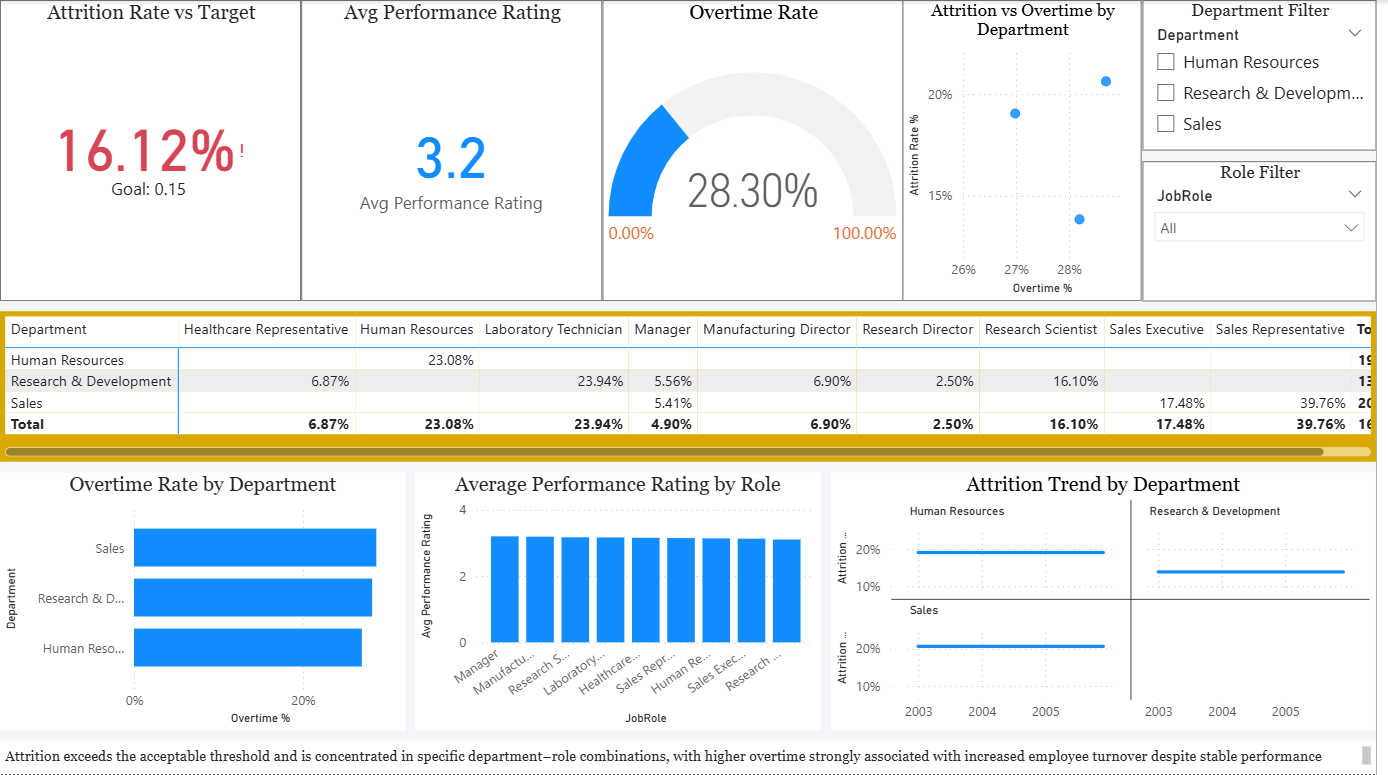

The page's visual inventory and layout, read from the dashboard file:
{"tool":"powerbi","page":{"name":"Operations Dashboard","canvas":[1280,720],"ordinal":1},"visuals":[{"type":"kpi","title":"Attrition Rate vs Target","fields":{"Indicator":["Operations_Clean.Attrition Rate %"],"TrendLine":["Date_Dim.Month_Year"],"Goal":["Operations_Clean.Attrition Target"]},"box":[0,0,280,280],"z":0},{"type":"card","title":"Avg Performance Rating","fields":{"Values":["Operations_Clean.Avg Performance Rating"]},"box":[280,0,280,280],"z":1000},{"type":"gauge","title":"Overtime Rate","fields":{"Y":["Operations_Clean.Overtime %"]},"box":[560,0,280,280],"z":2000},{"type":"clusteredColumnChart","title":"Average Performance Rating by Role","fields":{"Category":["Operations_Clean.JobRole"],"Y":["Operations_Clean.Avg Performance Rating"]},"box":[386.2,440,377.5,240],"z":3000},{"type":"barChart","title":"Overtime Rate by Department","fields":{"Y":["Operations_Clean.Overtime %"],"Category":["Operations_Clean.Department"]},"box":[0,440,377.5,240],"z":4000},{"type":"slicer","title":"Department Filter","fields":{"Values":["Operations_Clean.Department"]},"box":[1062.5,0,217.5,140],"z":5000},{"type":"slicer","title":"Role Filter","fields":{"Values":["Operations_Clean.JobRole"]},"box":[1062.5,150,217.5,130],"z":6000},{"type":"pivotTable","fields":{"Rows":["Operations_Clean.Department"],"Columns":["Operations_Clean.JobRole"],"Values":["Operations_Clean.Attrition Rate %"]},"box":[0,290,1280,140],"z":7000},{"type":"lineChart","title":"Attrition Trend by Department","fields":{"Category":["Date_Dim.Month_Year"],"Y":["Operations_Clean.Attrition Rate %"],"Rows":["Operations_Clean.Department"]},"box":[773.8,440,506.2,240],"z":8000},{"type":"scatterChart","title":"Attrition vs Overtime by Department","fields":{"Y":["Operations_Clean.Attrition Rate %"],"X":["Operations_Clean.Overtime %"],"Category":["Operations_Clean.Department"]},"box":[840,0,222.5,280],"z":9000},{"type":"textbox","box":[0,690,1280,30],"z":10000}]}

Visuals, with their boxes in screenshot pixels (x1, y1, x2, y2), scaled from the page's 1280x720 canvas onto the 1388x775 screenshot:
"Attrition Rate vs Target" kpi: x1=0, y1=0, x2=304, y2=301
"Avg Performance Rating" card: x1=304, y1=0, x2=607, y2=301
"Overtime Rate" gauge: x1=607, y1=0, x2=911, y2=301
"Average Performance Rating by Role" clusteredColumnChart: x1=419, y1=474, x2=828, y2=732
"Overtime Rate by Department" barChart: x1=0, y1=474, x2=409, y2=732
"Department Filter" slicer: x1=1152, y1=0, x2=1387, y2=151
"Role Filter" slicer: x1=1152, y1=161, x2=1387, y2=301
pivotTable - Operations_Clean.Department x Operations_Clean.JobRole: x1=0, y1=312, x2=1387, y2=463
"Attrition Trend by Department" lineChart: x1=839, y1=474, x2=1387, y2=732
"Attrition vs Overtime by Department" scatterChart: x1=911, y1=0, x2=1152, y2=301
textbox: x1=0, y1=743, x2=1387, y2=774
